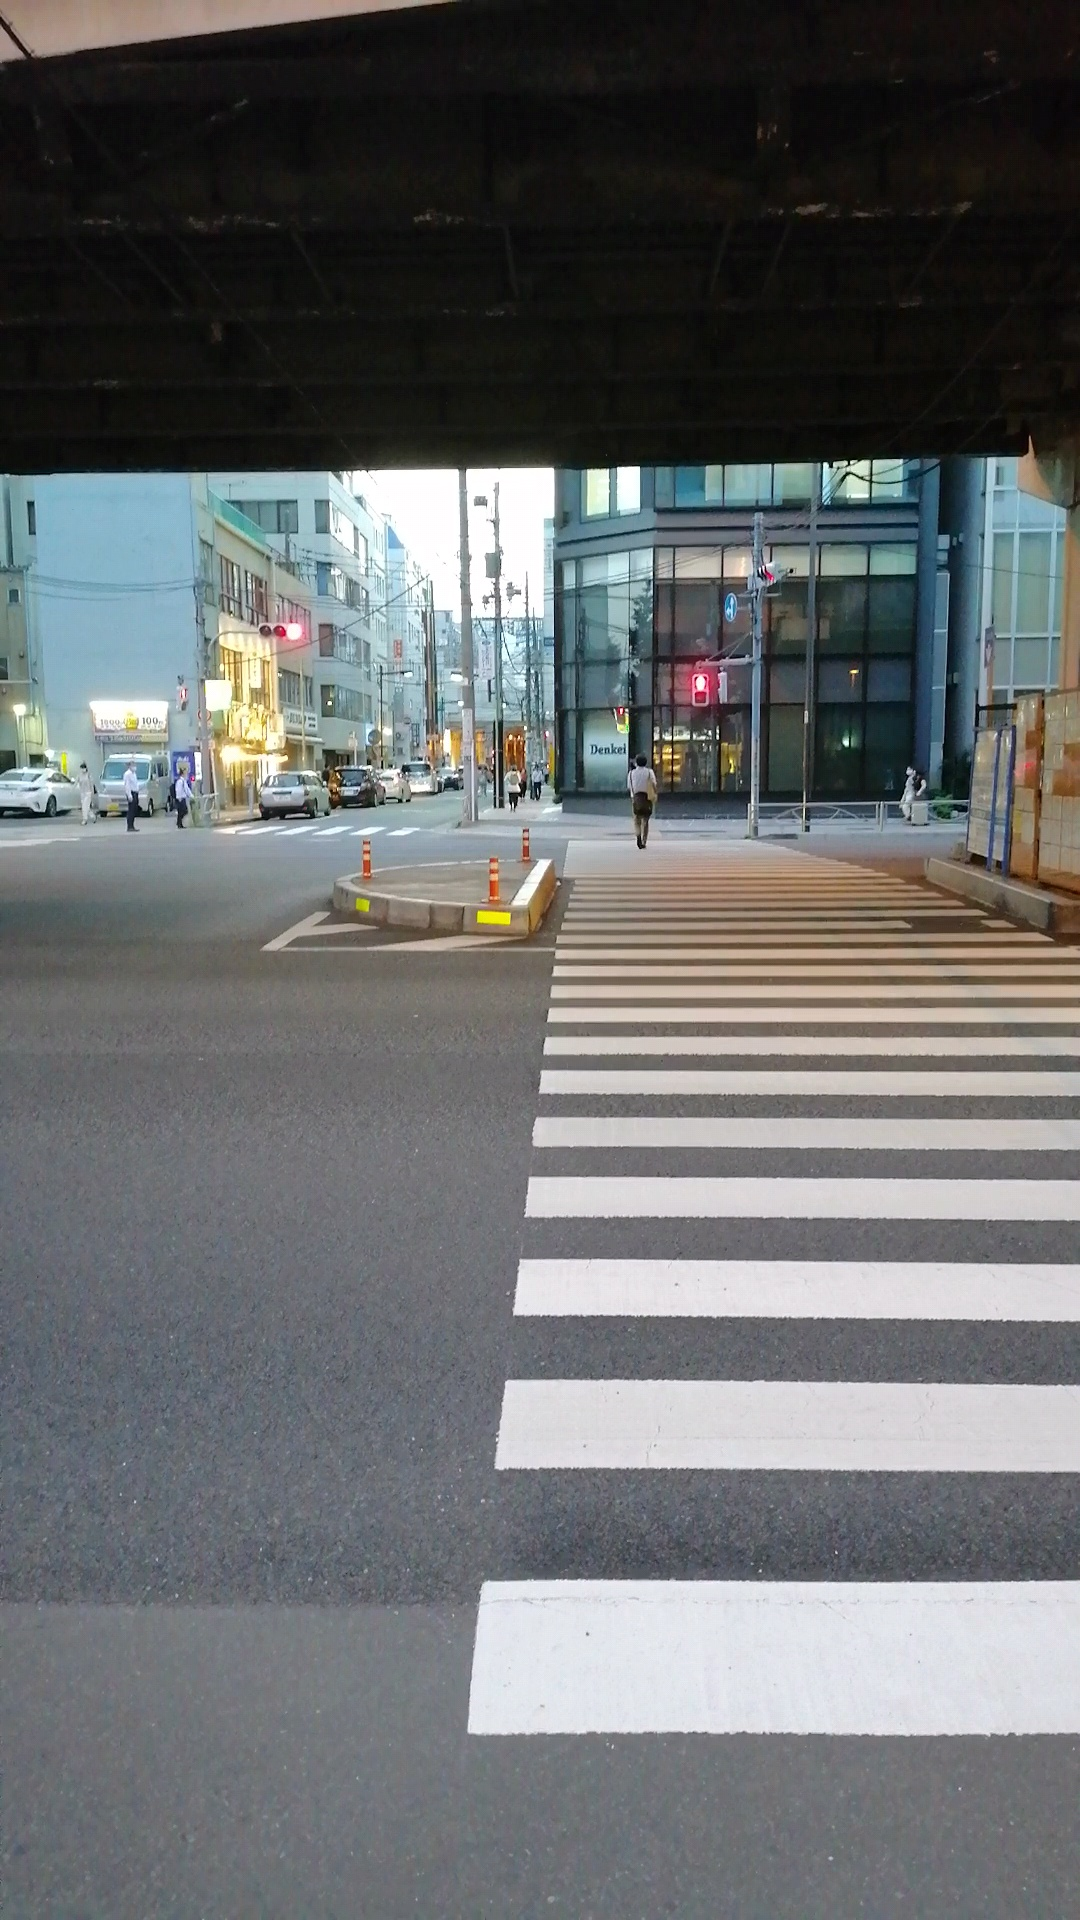red: (688, 670, 709, 709)
